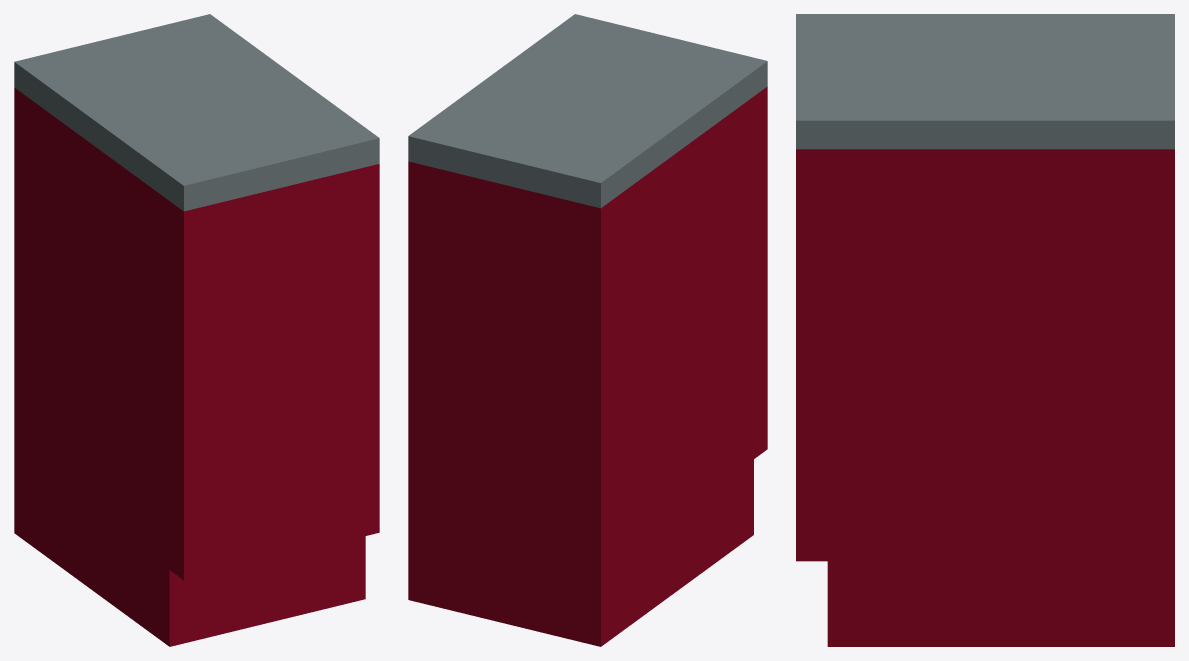
File: Cabinet_NoCassetti.fbx
The picture shows the model from 3 angles, left to right: view 1: azimuth 30°, elevation 25°; view 2: azimuth 150°, elevation 25°; view 3: azimuth 270°, elevation 25°; orthographic projection. The views are drawn at different scales.
Visible parts, largest first — view 1: cabinet-kitchen-small; view 2: cabinet-kitchen-small; view 3: cabinet-kitchen-small.
Boxes of the visible parts, x1,y1,x2,y2 form: cabinet-kitchen-small: (14, 14, 379, 646); cabinet-kitchen-small: (408, 14, 767, 646); cabinet-kitchen-small: (796, 14, 1174, 646).
Bounding box in the file's own units: 40 × 92 × 60.
